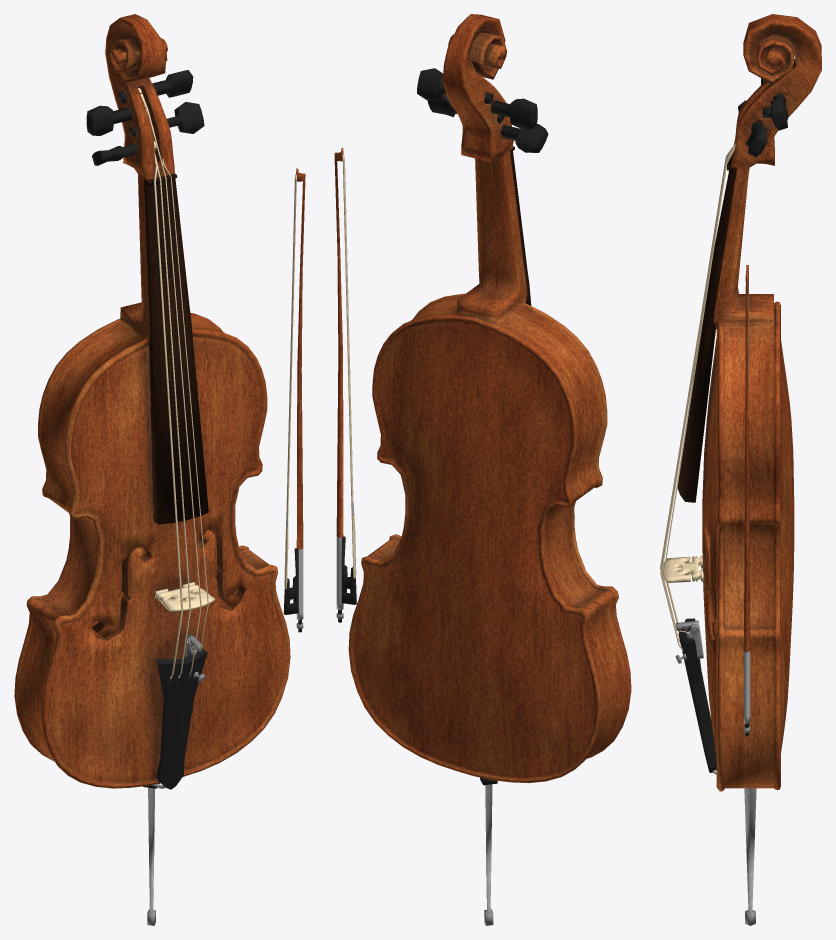
Rendered from Cello.fbx.
3 views of the same model, side by side, from view 1: azimuth 30°, elevation 25°; view 2: azimuth 150°, elevation 25°; view 3: azimuth 270°, elevation 25° (orthographic). The views are drawn at different scales.
Visible parts, largest first — view 1: Violin_low.001, Strings_low.001, Smichok_low.001, Grif_Bottom_low.001, String_Support_low.001, Kolki_04_low.001, Kolki_01_low.001, Kolki_03_low.001; view 2: Violin_low.001, Smichok_low.001, Kolki_04_low.001, Kolki_02_low.001, Kolki_03_low.001; view 3: Violin_low.001, Smichok_low.001, Strings_low.001, Grif_Bottom_low.001, String_Support_low.001, Kolki_01_low.001, Kolki_03_low.001.
Boxes of the visible parts, bbox=[...] form: Violin_low.001: bbox=[14, 14, 290, 925]; Strings_low.001: bbox=[138, 88, 208, 678]; Smichok_low.001: bbox=[283, 168, 305, 632]; Grif_Bottom_low.001: bbox=[156, 649, 207, 789]; String_Support_low.001: bbox=[155, 582, 214, 611]; Kolki_04_low.001: bbox=[86, 105, 147, 135]; Kolki_01_low.001: bbox=[129, 102, 204, 136]; Kolki_03_low.001: bbox=[118, 70, 193, 103]; Violin_low.001: bbox=[348, 14, 631, 925]; Smichok_low.001: bbox=[334, 147, 356, 622]; Kolki_04_low.001: bbox=[491, 98, 537, 129]; Kolki_02_low.001: bbox=[501, 124, 548, 152]; Kolki_03_low.001: bbox=[417, 68, 493, 103]; Violin_low.001: bbox=[677, 14, 821, 925]; Smichok_low.001: bbox=[744, 265, 750, 736]; Strings_low.001: bbox=[660, 110, 762, 651]; Grif_Bottom_low.001: bbox=[678, 618, 716, 772]; String_Support_low.001: bbox=[661, 555, 703, 582]; Kolki_01_low.001: bbox=[747, 121, 767, 157]; Kolki_03_low.001: bbox=[770, 93, 787, 130].
Size of the model in its own units: 46.04 by 142 by 23.05.
1 material, 1 textured.
